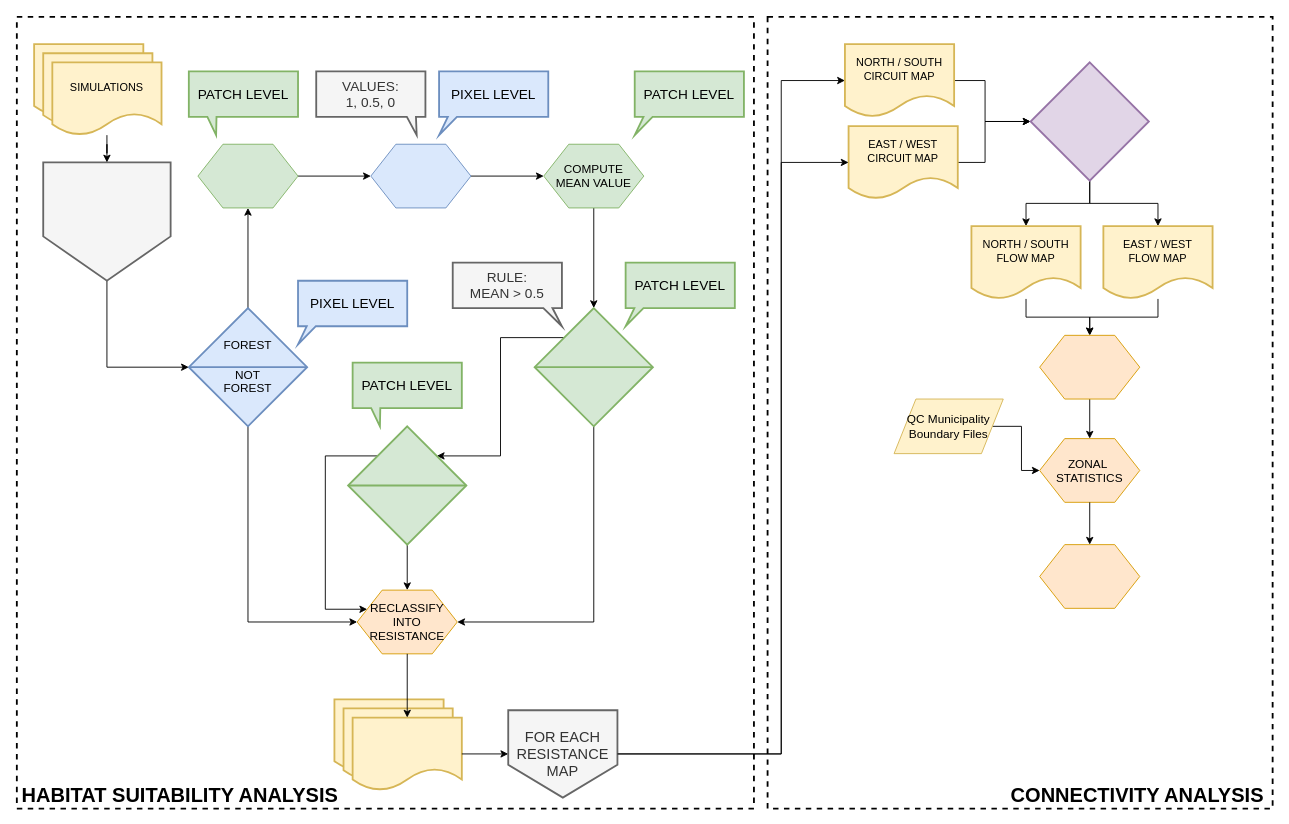
Some shapes in this 1289 by 824 pixel diagram are drawn without their labels. The centre of each missing label's shape, as x and y in pixels:
"CIRCUITSCAPE" belongs at point 1089,121.
"CLUMP" belongs at point 247,175.
"FOR EACH: - ITERATION - TIMESTEP - SPECIES" belongs at point 106,221.
"PATCH GOOD SIZE PATH TOO SMALL" belongs at point 407,485.
"RECLASSIFY BASED ON SUITABILITY" belongs at point 420,175.
"RESISTANCE MAPS" belongs at point 406,753.
"SUITABLE NOT SUITABLE" belongs at point 593,367.
"SUM" belongs at point 1089,366.
"SURF ANALYSIS" belongs at point 1089,576.
